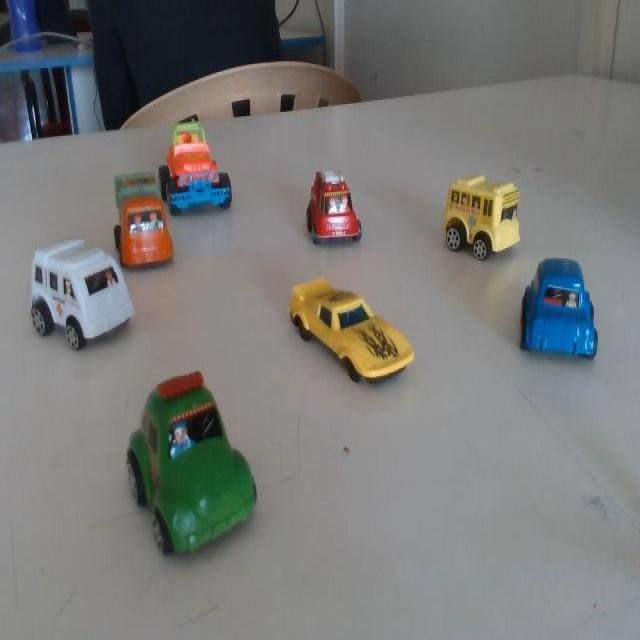car: (115, 378, 253, 542), (22, 220, 141, 367), (284, 270, 414, 390), (434, 174, 517, 270), (521, 258, 599, 360), (163, 114, 241, 213), (293, 160, 363, 260), (111, 161, 174, 271)
